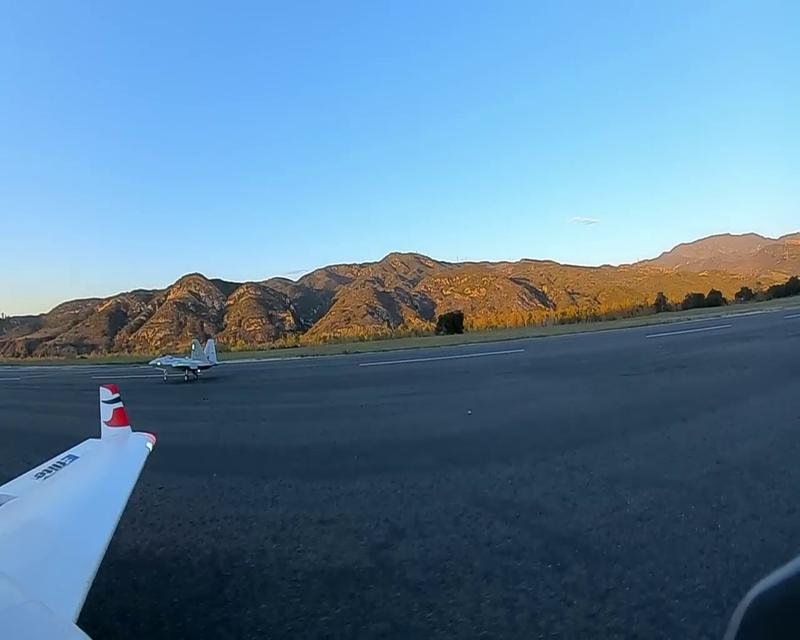UAV: (147, 337, 220, 383)
